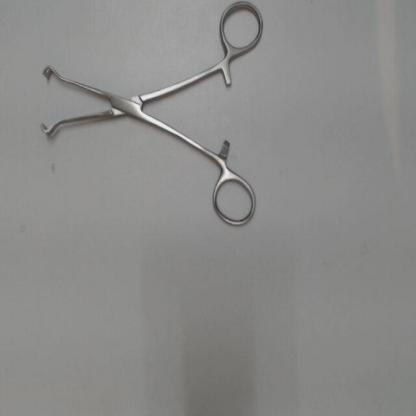Babcock Tissue Forceps: (36, 2, 266, 234)
